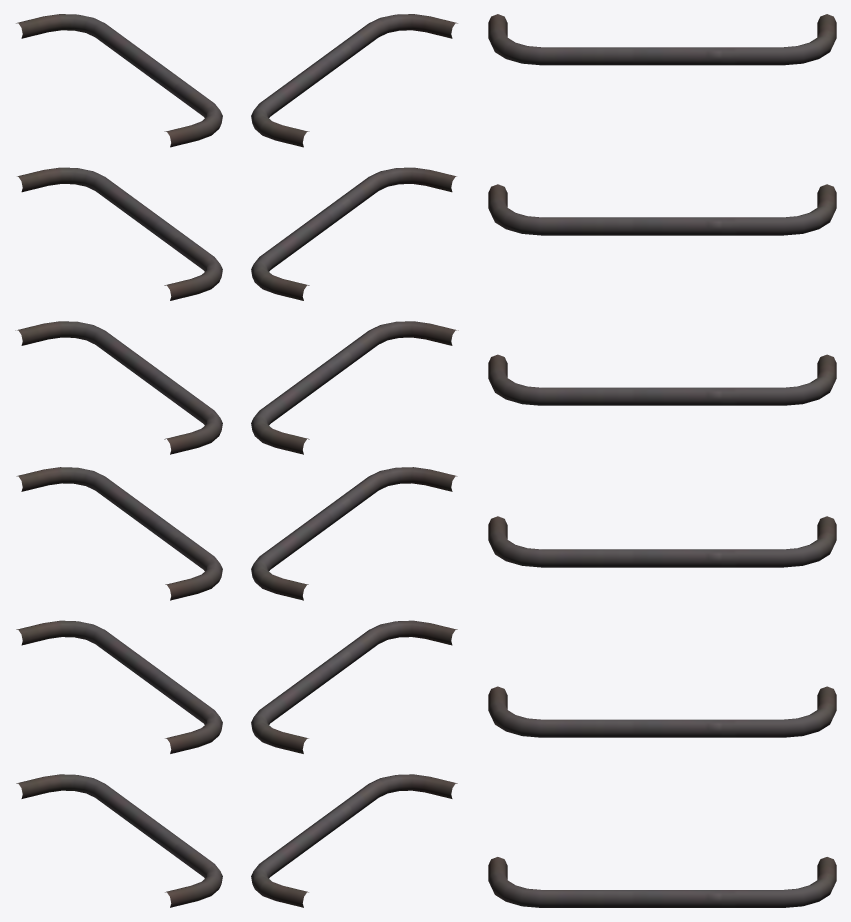
3 views of the same model, side by side, from view 1: azimuth 30°, elevation 25°; view 2: azimuth 150°, elevation 25°; view 3: azimuth 270°, elevation 25° (orthographic). The views are drawn at different scales.
Parts seen in each view (by area): view 1: body0_model0_lod0_mesh0; view 2: body0_model0_lod0_mesh0; view 3: body0_model0_lod0_mesh0.
Part boxes in pixels (box(x1,y1,x2,y2)): body0_model0_lod0_mesh0: box(15, 14, 222, 907); body0_model0_lod0_mesh0: box(251, 14, 458, 907); body0_model0_lod0_mesh0: box(488, 14, 836, 907).
Bounding box in the file's own units: 8.12 × 86.49 × 31.75.
Materials: 1 (1 with a texture image).
